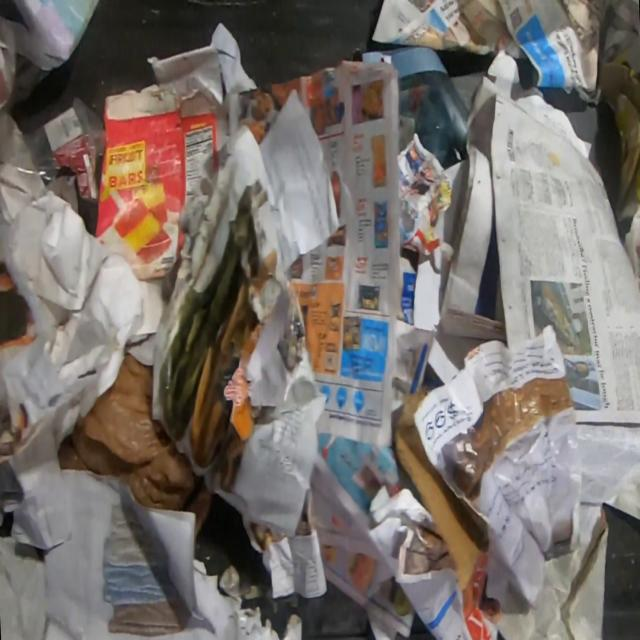cardboard: (93, 81, 219, 281), (394, 386, 487, 593), (595, 42, 640, 225), (234, 605, 304, 640)
soft_plastic: (58, 352, 214, 541), (0, 92, 108, 183), (0, 0, 105, 73), (0, 47, 16, 113)
